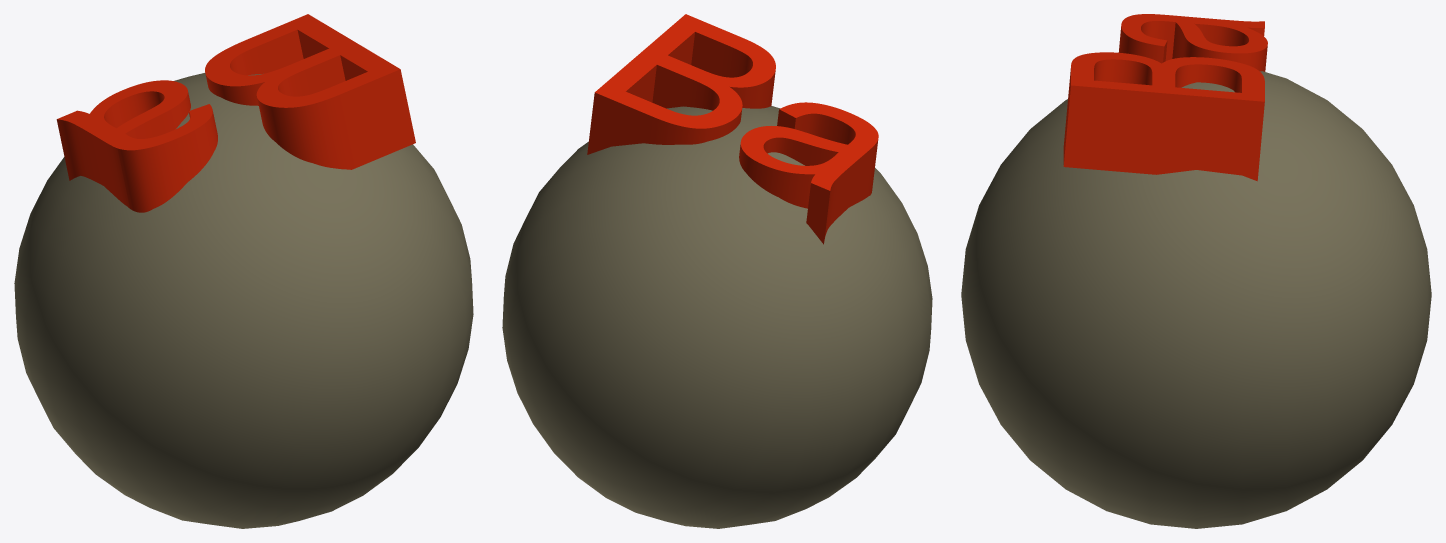
3 renders of one model, left to right at view 1: azimuth 30°, elevation 25°; view 2: azimuth 150°, elevation 25°; view 3: azimuth 270°, elevation 25°, orthographic. The views are drawn at different scales.
Parts seen in each view (by area): view 1: Ba; view 2: Ba; view 3: Ba.
Boxes of the visible parts, x1,y1,x2,y2 form: Ba: [14, 14, 473, 528]; Ba: [502, 14, 932, 528]; Ba: [961, 14, 1431, 528].
Bounding box in the file's own units: 38.7 × 42.69 × 38.75.
